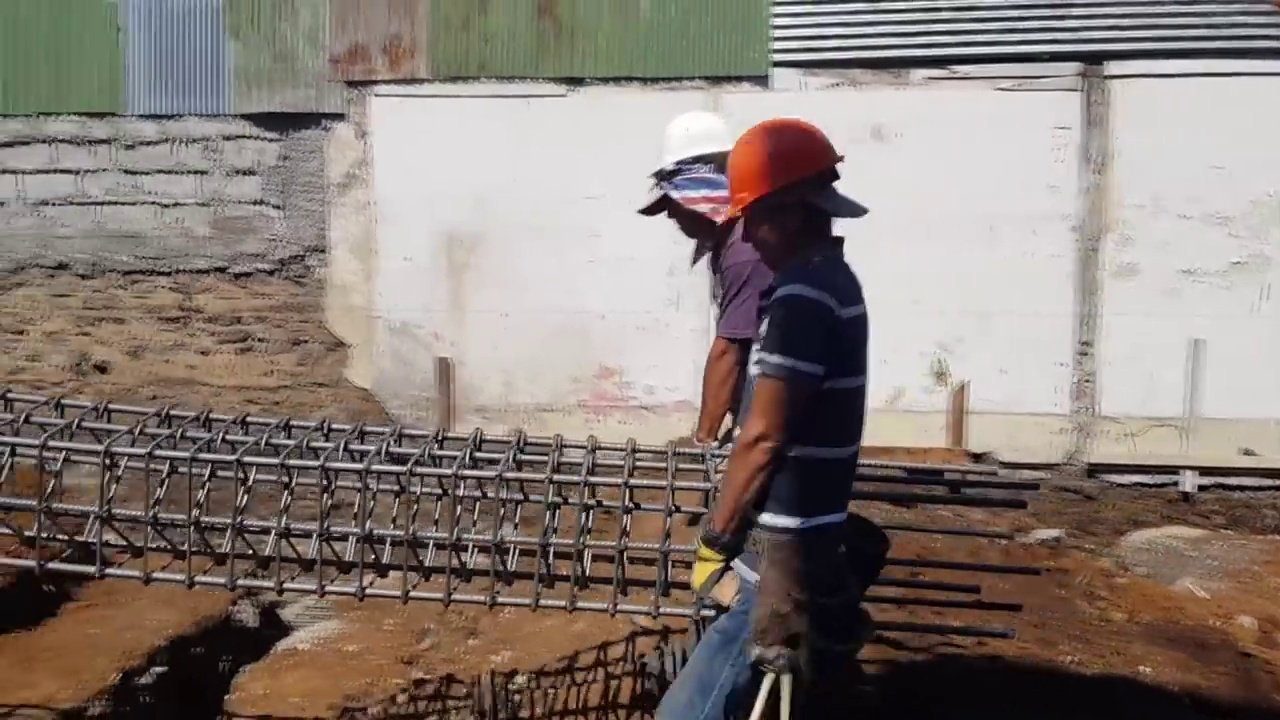helmet: (716, 116, 849, 214), (646, 107, 737, 190)
helmet-on: (717, 122, 852, 297), (640, 107, 740, 267)
person: (682, 115, 885, 688), (645, 115, 770, 441)
